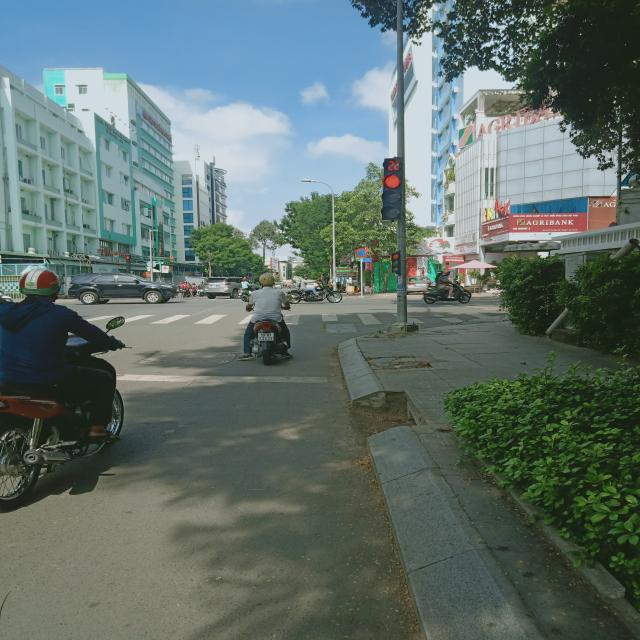Red: (382, 173, 409, 222), (389, 250, 406, 274)
